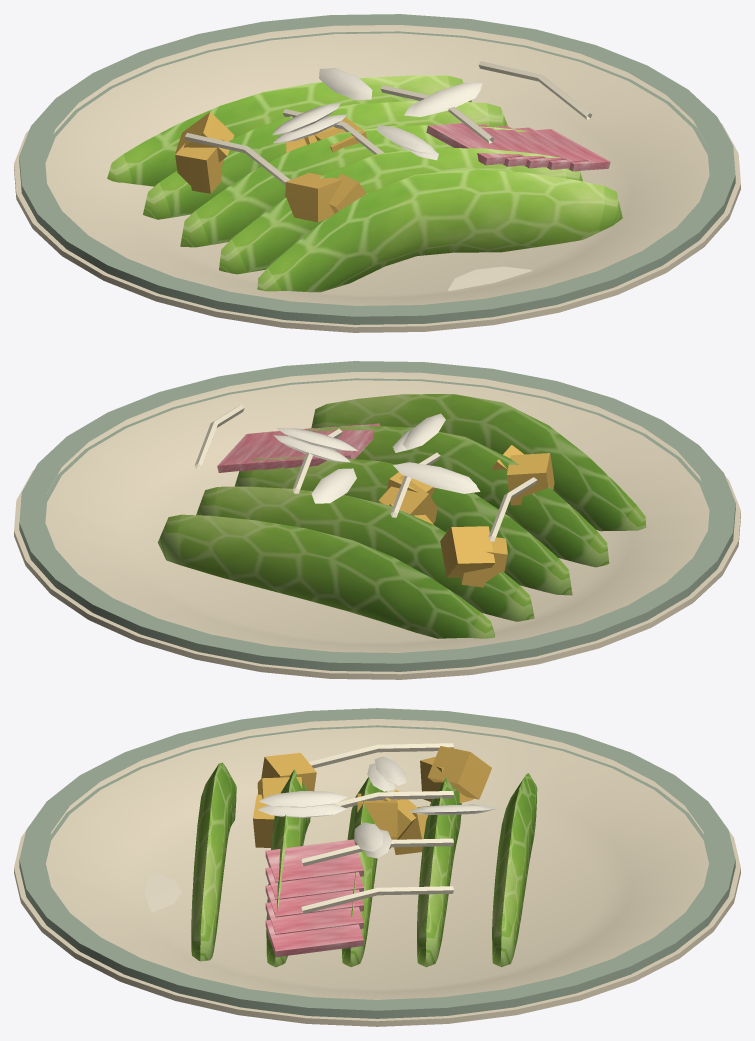
File: meal_caesar_salad.glb
3 views of the same model, one above another, from view 1: azimuth 30°, elevation 25°; view 2: azimuth 150°, elevation 25°; view 3: azimuth 270°, elevation 25° (orthographic).
Visible parts, largest first — view 1: meal_caesar_salad; view 2: meal_caesar_salad; view 3: meal_caesar_salad.
Boxes of the visible parts, x1,y1,x2,y2 form: meal_caesar_salad: (14,14,740,332); meal_caesar_salad: (14,361,740,679); meal_caesar_salad: (14,708,740,1026).
Size of the model in its own units: 0.29 by 0.0519 by 0.29.
7 materials, 2 textured.
